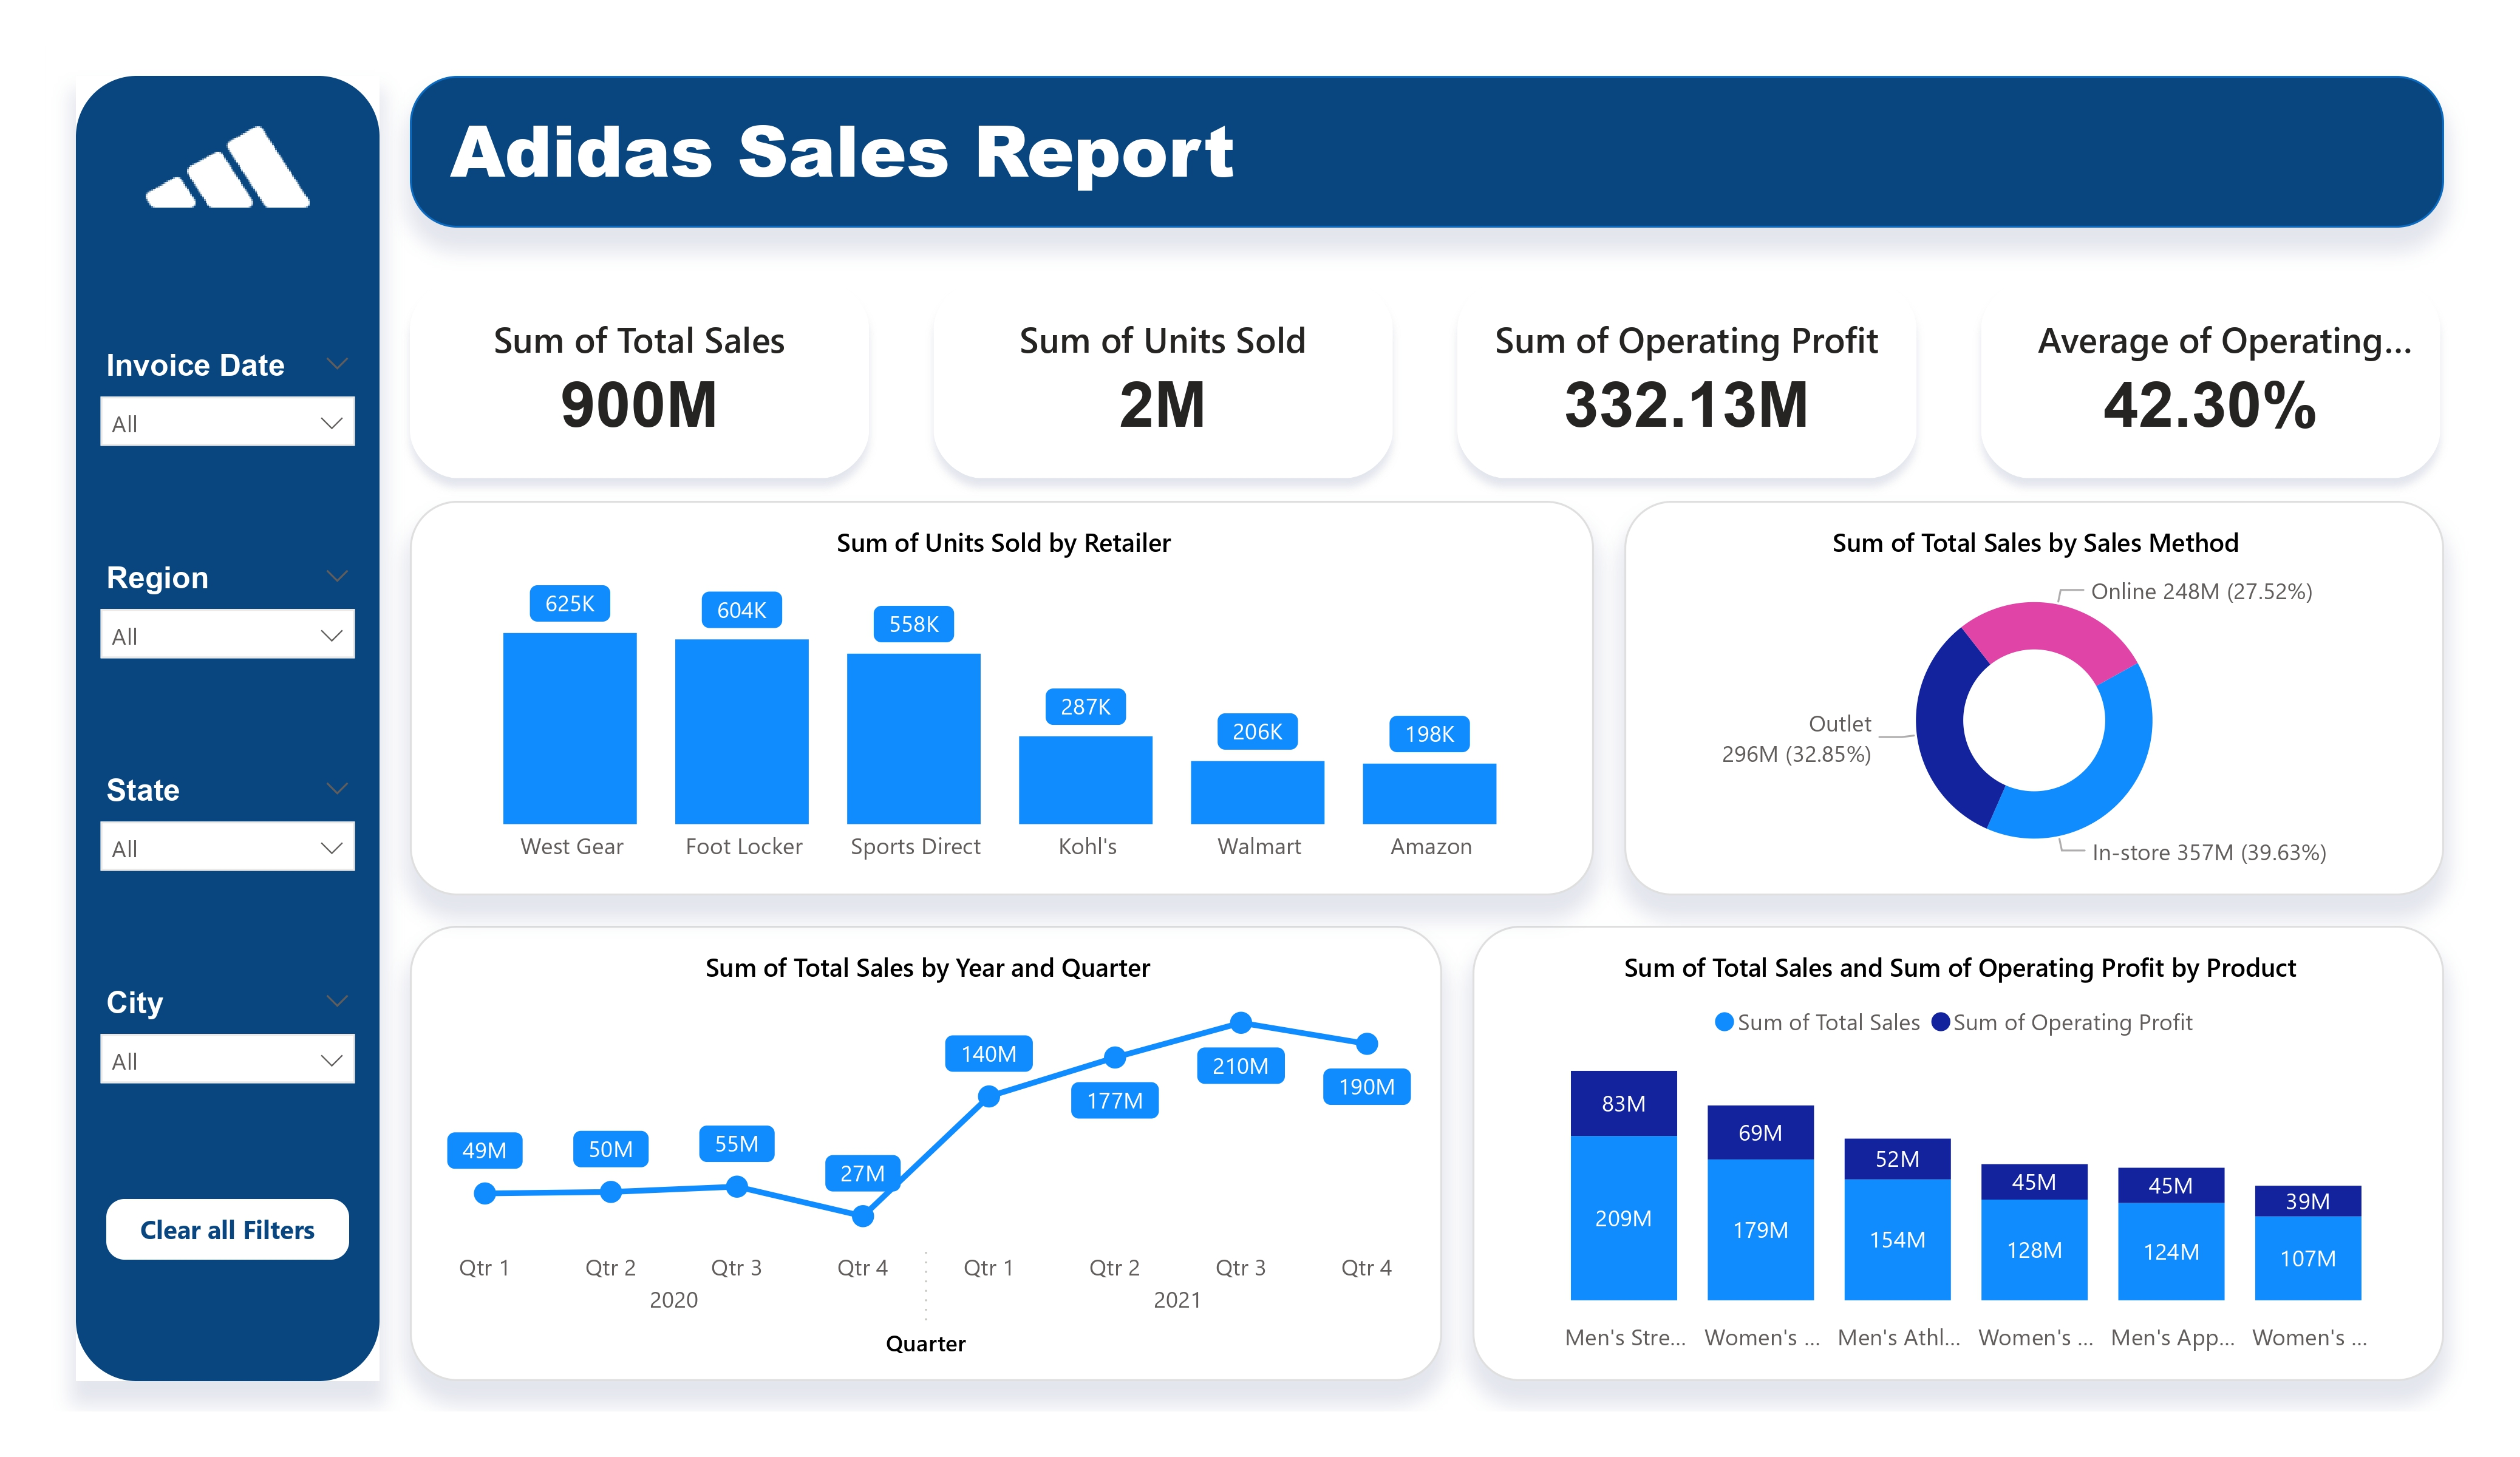

What the dashboard file says about the page in this screenshot:
{"tool":"powerbi","page":{"name":"Page 1","canvas":[1280,720],"ordinal":0},"visuals":[{"type":"textbox","box":[192,16,1072,80],"z":0},{"type":"cardVisual","fields":{"Data":["Data Sales Adidas.Total Sales","Data Sales Adidas.Units Sold","Data Sales Adidas.Operating Profit","Data Sales Adidas.Operating Margin"]},"box":[176,112,1104,128],"z":1000},{"type":"donutChart","fields":{"Category":["Data Sales Adidas.Sales Method"],"Y":["Data Sales Adidas.Total Sales"]},"box":[832,240,432,208],"z":2000},{"type":"lineClusteredColumnComboChart","fields":{"Category":["Data Sales Adidas.Invoice Date.Variation.Date Hierarchy.Year","Data Sales Adidas.Invoice Date.Variation.Date Hierarchy.Quarter"],"Y2":["Data Sales Adidas.Total Sales"]},"box":[192,464,544,240],"z":3000},{"type":"columnChart","fields":{"Y":["Data Sales Adidas.Total Sales","Data Sales Adidas.Operating Profit"],"Category":["Data Sales Adidas.Product"]},"box":[752,464,512,240],"z":4000},{"type":"lineClusteredColumnComboChart","fields":{"Category":["Data Sales Adidas.Retailer"],"Y":["Data Sales Adidas.Units Sold"]},"box":[192,240,624,208],"z":5000},{"type":"shape","box":[16,16,160,688],"z":6000},{"type":"image","box":[48,16,96,96],"z":7000},{"type":"slicer","fields":{"Values":["Data Sales Adidas.Invoice Date"]},"box":[24,160,144,88],"z":8000},{"type":"slicer","fields":{"Values":["Data Sales Adidas.Region"]},"box":[24,272,144,88],"z":9000},{"type":"slicer","fields":{"Values":["Data Sales Adidas.State"]},"box":[24,384,144,88],"z":10000},{"type":"slicer","fields":{"Values":["Data Sales Adidas.City"]},"box":[24,496,144,88],"z":11000},{"type":"shape","box":[32,608,128,32],"z":12000}]}

Visuals, with their boxes on the page's 1280x720 design canvas (x1, y1, x2, y2). These are canvas units, not pixel positions in the 2520x1457 screenshot, which may show the page scaled, cropped or inside an application window:
textbox: x1=192 y1=16 x2=1264 y2=96
cardVisual - Data Sales Adidas.Total Sales x Data Sales Adidas.Units Sold: x1=176 y1=112 x2=1280 y2=240
donutChart - Data Sales Adidas.Sales Method x Data Sales Adidas.Total Sales: x1=832 y1=240 x2=1264 y2=448
lineClusteredColumnComboChart - Data Sales Adidas.Invoice Date.Variation.Date Hierarchy.Year x Data Sales Adidas.Invoice Date.Variation.Date Hierarchy.Quarter: x1=192 y1=464 x2=736 y2=704
columnChart - Data Sales Adidas.Total Sales x Data Sales Adidas.Operating Profit: x1=752 y1=464 x2=1264 y2=704
lineClusteredColumnComboChart - Data Sales Adidas.Retailer x Data Sales Adidas.Units Sold: x1=192 y1=240 x2=816 y2=448
shape: x1=16 y1=16 x2=176 y2=704
image: x1=48 y1=16 x2=144 y2=112
slicer - Data Sales Adidas.Invoice Date: x1=24 y1=160 x2=168 y2=248
slicer - Data Sales Adidas.Region: x1=24 y1=272 x2=168 y2=360
slicer - Data Sales Adidas.State: x1=24 y1=384 x2=168 y2=472
slicer - Data Sales Adidas.City: x1=24 y1=496 x2=168 y2=584
shape: x1=32 y1=608 x2=160 y2=640
